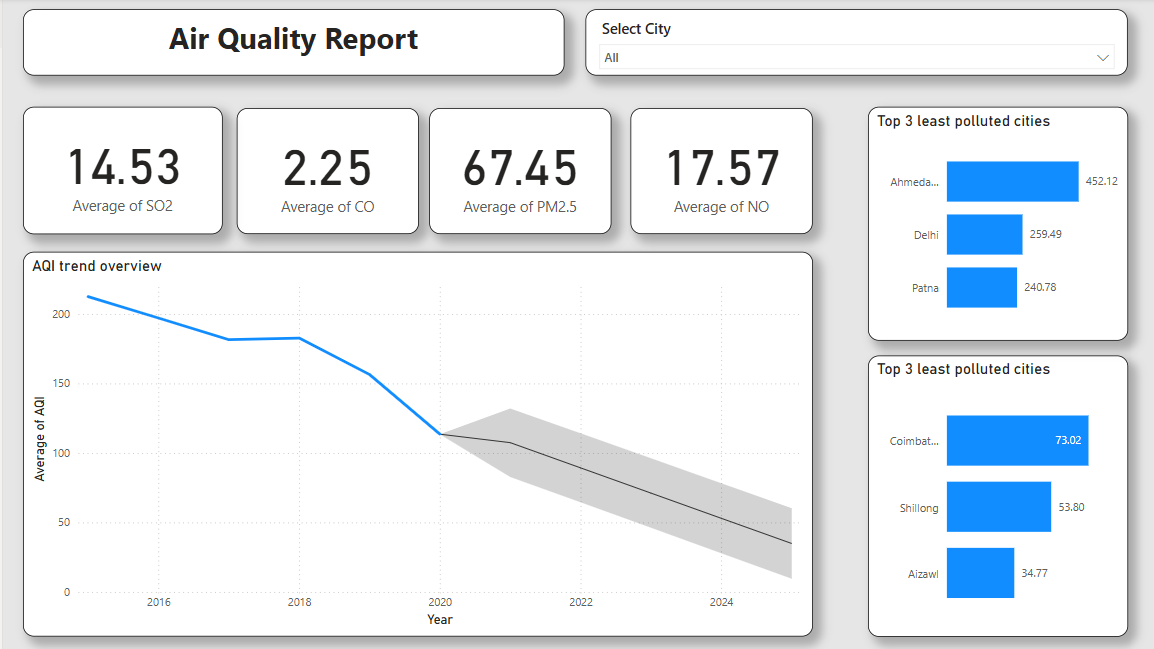

This screenshot's page, from the dashboard's own definition file:
{"tool":"powerbi","page":{"name":"Page 1","canvas":[1280,720],"ordinal":0},"visuals":[{"type":"lineChart","title":" AQI trend overview","fields":{"Y":["Avg(city_day.AQI)"],"Category":["city_day.Date.Variation.Date Hierarchy.Year"]},"box":[22,278.6,867.2,422.6],"z":0},{"type":"slicer","fields":{"Values":["city_day.City"]},"box":[639.5,12.3,595.5,72.7],"z":1000},{"type":"barChart","title":"Top 3 least polluted cities","fields":{"Category":["city_day.City"],"Y":["Avg(city_day.AQI)"]},"box":[949.6,392.5,285.4,308.7],"z":2000},{"type":"card","fields":{"Values":["Avg(city_day.CO)"]},"box":[256.6,120.8,200.3,138.6],"z":3000},{"type":"card","fields":{"Values":["Avg(city_day.NO)"]},"box":[688.9,120.8,200.3,138.6],"z":4000},{"type":"card","fields":{"Values":["Avg(city_day.SO2)"]},"box":[22,119.4,219.6,140],"z":5000},{"type":"card","fields":{"Values":["Avg(city_day.PM2.5)"]},"box":[467.9,120.8,200.3,138.6],"z":6000},{"type":"textbox","box":[22,12.3,594.2,72.7],"z":6001},{"type":"barChart","title":"Top 3 least polluted cities","fields":{"Category":["city_day.City"],"Y":["Avg(city_day.AQI)"]},"box":[949.6,119.4,285.4,256.6],"z":6002}]}

Visuals, with their boxes in screenshot pixels (x1, y1, x2, y2), scaled from the page's 1280x720 canvas onto the 1154x649 screenshot:
" AQI trend overview" lineChart: Rect(20, 251, 802, 632)
slicer - city_day.City: Rect(577, 11, 1113, 77)
"Top 3 least polluted cities" barChart: Rect(856, 354, 1113, 632)
card - Avg(city_day.CO): Rect(231, 109, 412, 234)
card - Avg(city_day.NO): Rect(621, 109, 802, 234)
card - Avg(city_day.SO2): Rect(20, 108, 218, 234)
card - Avg(city_day.PM2.5): Rect(422, 109, 602, 234)
textbox: Rect(20, 11, 556, 77)
"Top 3 least polluted cities" barChart: Rect(856, 108, 1113, 339)
